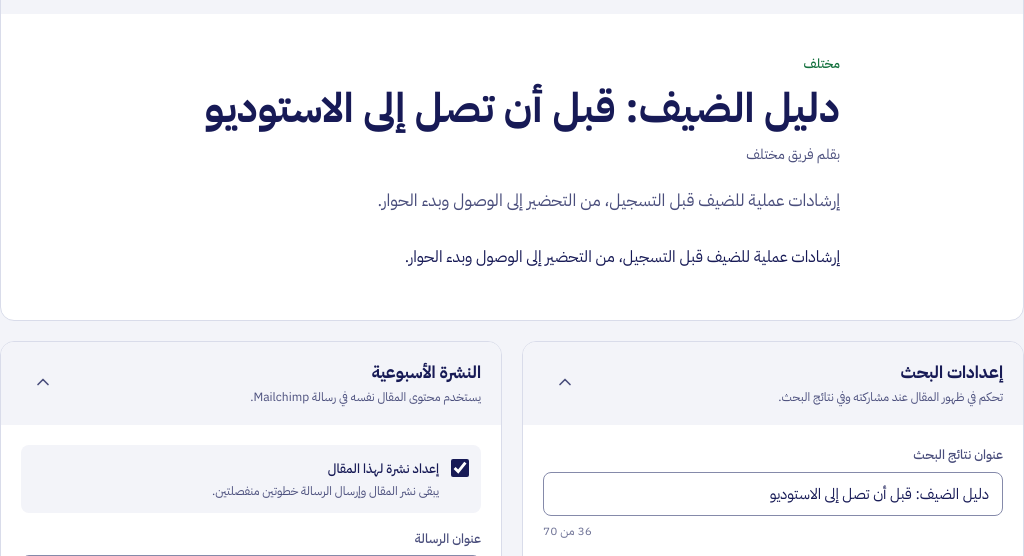
ArticleEditorView › lets editors collapse supporting sections while keeping the article open
This screenshot has width=1024, height=556.
(page scrolled)
Click the button named "إغلاق قسم إعدادات البحث".
click(565, 382)  # box [543, 360, 587, 404]
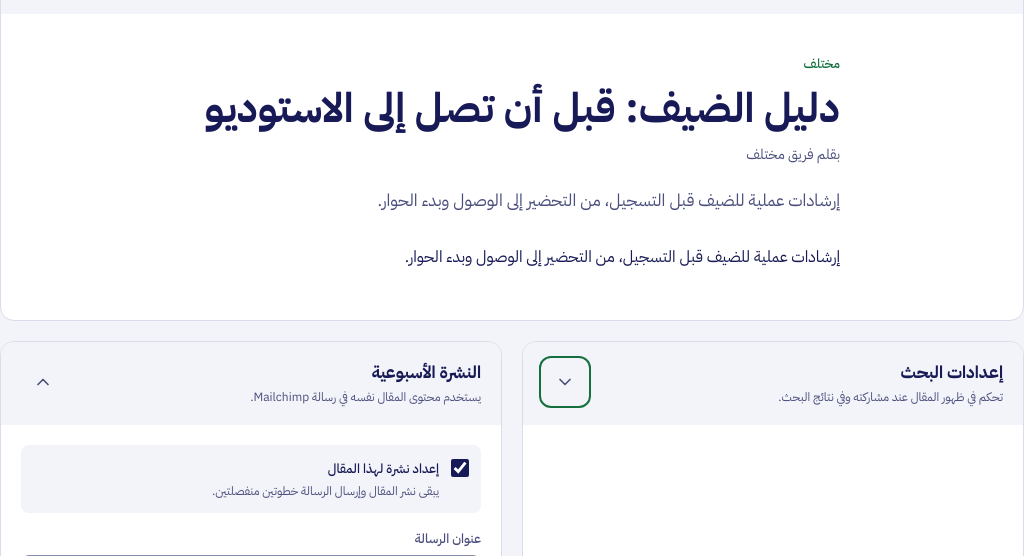
Expected: the button named "فتح قسم إعدادات البحث" is collapsed
Click the button named "فتح قسم إعدادات البحث".
click(565, 382)  # box [543, 360, 587, 404]
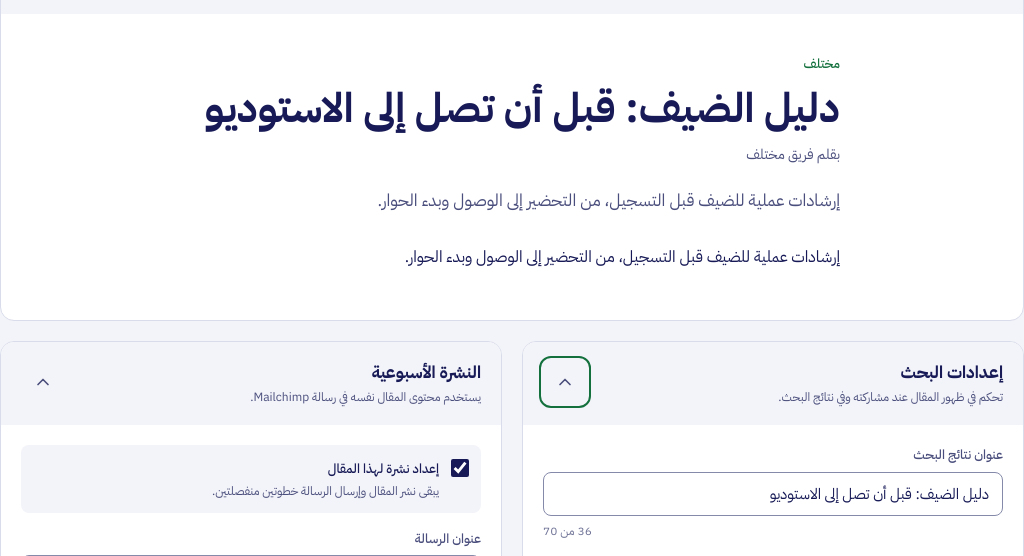
Expected: the field labelled "عنوان نتائج البحث" holds "دليل الضيف: قبل أن تصل إلى الاستوديو", [543, 472, 1003, 516]
